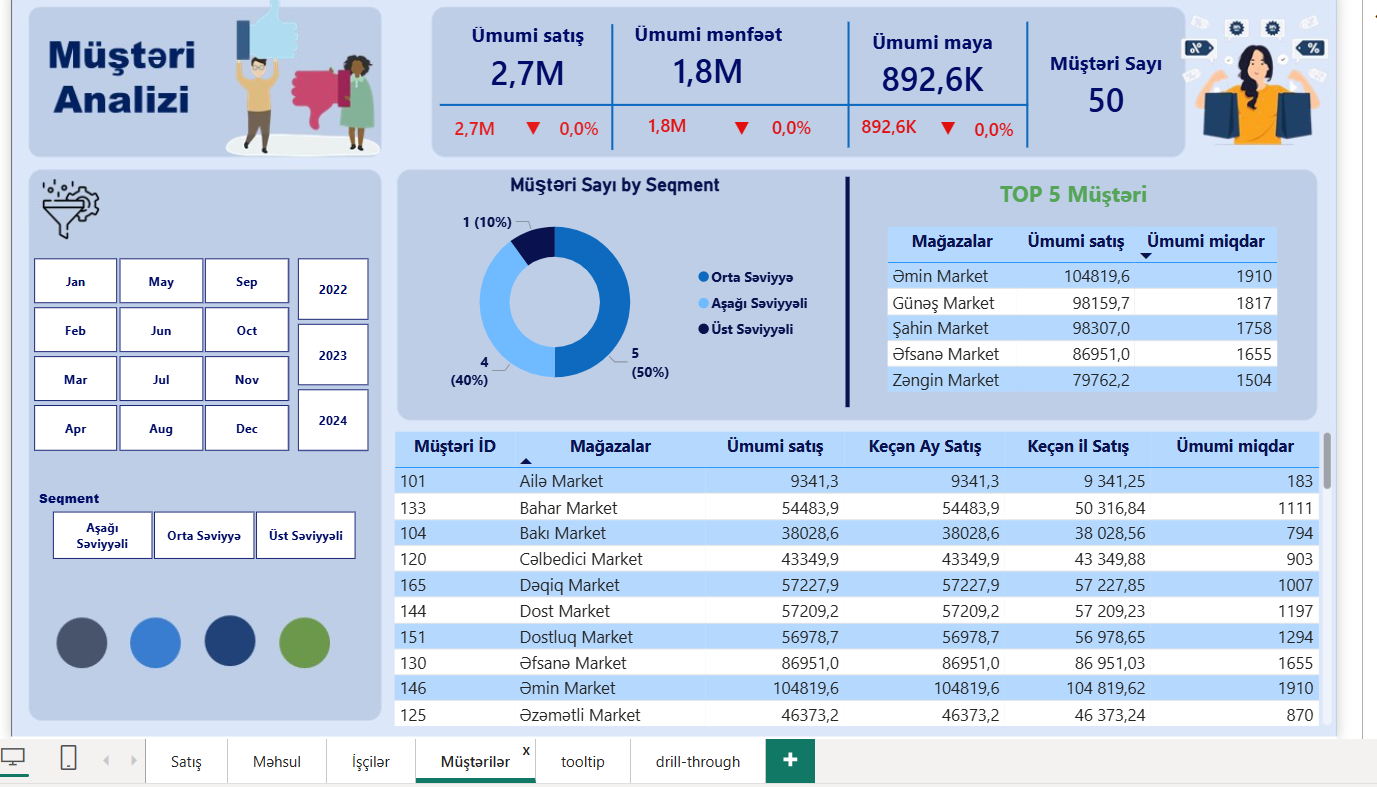

The page's visual inventory and layout, read from the dashboard file:
{"tool":"powerbi","page":{"name":"Müştərilər","canvas":[1280,720],"ordinal":3},"visuals":[{"type":"slicer","fields":{"Values":["Tarix.Ay"]},"box":[0,252,288,193.3],"z":0},{"type":"slicer","fields":{"Values":["Tarix.Il"]},"box":[254.7,252,110.7,193.3],"z":1000},{"type":"slicer","fields":{"Values":["Müştərilər.Seqment"]},"box":[18.7,476,334.7,73.3],"z":2000},{"type":"actionButton","box":[34.7,597.3,65.3,62.7],"z":3000},{"type":"actionButton","box":[110.7,597.3,65.3,62.7],"z":4000},{"type":"actionButton","box":[176,597.3,65.3,62.7],"z":5000},{"type":"actionButton","box":[245.3,597.3,65.3,62.7],"z":6000},{"type":"cardVisual","fields":{"Data":["Dax.Ümumi mənfəət"]},"box":[570.7,14.7,205.3,93.3],"z":7000},{"type":"cardVisual","fields":{"Data":["Dax.Keçən Ay Satış"]},"box":[416.2,108.6,63.9,41],"z":8000},{"type":"cardVisual","fields":{"Data":["Dax.menfeet ikon"]},"box":[673.3,108,64,40],"z":9000},{"type":"cardVisual","fields":{"Data":["Dax.Keçən Ay Mənfəət"]},"box":[594.7,106.7,78.7,40],"z":10000},{"type":"cardVisual","fields":{"Data":["Dax.Ümumi maya"]},"box":[797.3,21.3,184,93.3],"z":11000},{"type":"cardVisual","fields":{"Data":["Dax.Ümumi maya MoM%"]},"box":[917.3,109.3,64,40],"z":12000},{"type":"cardVisual","fields":{"Data":["Dax.Maya ikon"]},"box":[872,108,64,40],"z":13000},{"type":"cardVisual","fields":{"Data":["Dax.Keçən maya"]},"box":[808.3,101.3,78.4,50.7],"z":14000},{"type":"cardVisual","fields":{"Data":["Dax.Satis ikon"]},"box":[480,108,48,40],"z":15000},{"type":"shape","box":[413.3,101.3,568,13.3],"z":16000},{"type":"shape","box":[516,30.7,128,121.3],"z":17000},{"type":"shape","box":[744,28,128,121.3],"z":18000},{"type":"cardVisual","fields":{"Data":["Dax.Ümumi satış"]},"box":[413.3,16,170.7,93.3],"z":19000},{"type":"cardVisual","fields":{"Data":["Dax.Ümumi satış MoM %"]},"box":[516,108,64,40],"z":20000},{"type":"cardVisual","fields":{"Data":["Dax.Ümumi mənfəət MoM%"]},"box":[709.4,107.4,88.1,41],"z":21000},{"type":"shape","box":[917.3,28,128,121.3],"z":22000},{"type":"cardVisual","fields":{"Data":["Dax.Unikal Müştəri Sayı"]},"box":[969.3,42.7,176,93.3],"z":23000},{"type":"donutChart","fields":{"Category":["Müştərilər.Seqment"],"Y":["Dax.Müştəri Sayı"]},"box":[383,172.6,401.2,231],"z":24000},{"type":"shape","box":[792,177.3,32,222.7],"z":25000},{"type":"tableEx","fields":{"Values":["Müştərilər.Müştəri İD","Müştərilər.Mağazalar","Dax.Ümumi satış","Dax.Keçən Ay Satış","Dax.Keçən il Satış","Dax.Ümumi miqdar"]},"box":[364.7,418.2,915.5,293],"z":26000},{"type":"tableEx","fields":{"Values":["Müştərilər.Mağazalar","Dax.Ümumi satış","Dax.Ümumi miqdar"]},"box":[840,221.3,388,178.7],"z":27000},{"type":"textbox","box":[949.3,173.3,164,42.7],"z":28000}]}

Visuals, with their boxes on the page's 1280x720 design canvas (x1, y1, x2, y2). These are canvas units, not pixel positions in the 1377x787 screenshot, which may show the page scaled, cropped or inside an application window:
slicer - Tarix.Ay: x1=0 y1=252 x2=288 y2=445
slicer - Tarix.Il: x1=255 y1=252 x2=365 y2=445
slicer - Müştərilər.Seqment: x1=19 y1=476 x2=353 y2=549
actionButton: x1=35 y1=597 x2=100 y2=660
actionButton: x1=111 y1=597 x2=176 y2=660
actionButton: x1=176 y1=597 x2=241 y2=660
actionButton: x1=245 y1=597 x2=311 y2=660
cardVisual - Dax.Ümumi mənfəət: x1=571 y1=15 x2=776 y2=108
cardVisual - Dax.Keçən Ay Satış: x1=416 y1=109 x2=480 y2=150
cardVisual - Dax.menfeet ikon: x1=673 y1=108 x2=737 y2=148
cardVisual - Dax.Keçən Ay Mənfəət: x1=595 y1=107 x2=673 y2=147
cardVisual - Dax.Ümumi maya: x1=797 y1=21 x2=981 y2=115
cardVisual - Dax.Ümumi maya MoM%: x1=917 y1=109 x2=981 y2=149
cardVisual - Dax.Maya ikon: x1=872 y1=108 x2=936 y2=148
cardVisual - Dax.Keçən maya: x1=808 y1=101 x2=887 y2=152
cardVisual - Dax.Satis ikon: x1=480 y1=108 x2=528 y2=148
shape: x1=413 y1=101 x2=981 y2=115
shape: x1=516 y1=31 x2=644 y2=152
shape: x1=744 y1=28 x2=872 y2=149
cardVisual - Dax.Ümumi satış: x1=413 y1=16 x2=584 y2=109
cardVisual - Dax.Ümumi satış MoM %: x1=516 y1=108 x2=580 y2=148
cardVisual - Dax.Ümumi mənfəət MoM%: x1=709 y1=107 x2=798 y2=148
shape: x1=917 y1=28 x2=1045 y2=149
cardVisual - Dax.Unikal Müştəri Sayı: x1=969 y1=43 x2=1145 y2=136
donutChart - Müştərilər.Seqment x Dax.Müştəri Sayı: x1=383 y1=173 x2=784 y2=404
shape: x1=792 y1=177 x2=824 y2=400
tableEx - Müştərilər.Müştəri İD x Müştərilər.Mağazalar: x1=365 y1=418 x2=1280 y2=711
tableEx - Müştərilər.Mağazalar x Dax.Ümumi satış: x1=840 y1=221 x2=1228 y2=400
textbox: x1=949 y1=173 x2=1113 y2=216
